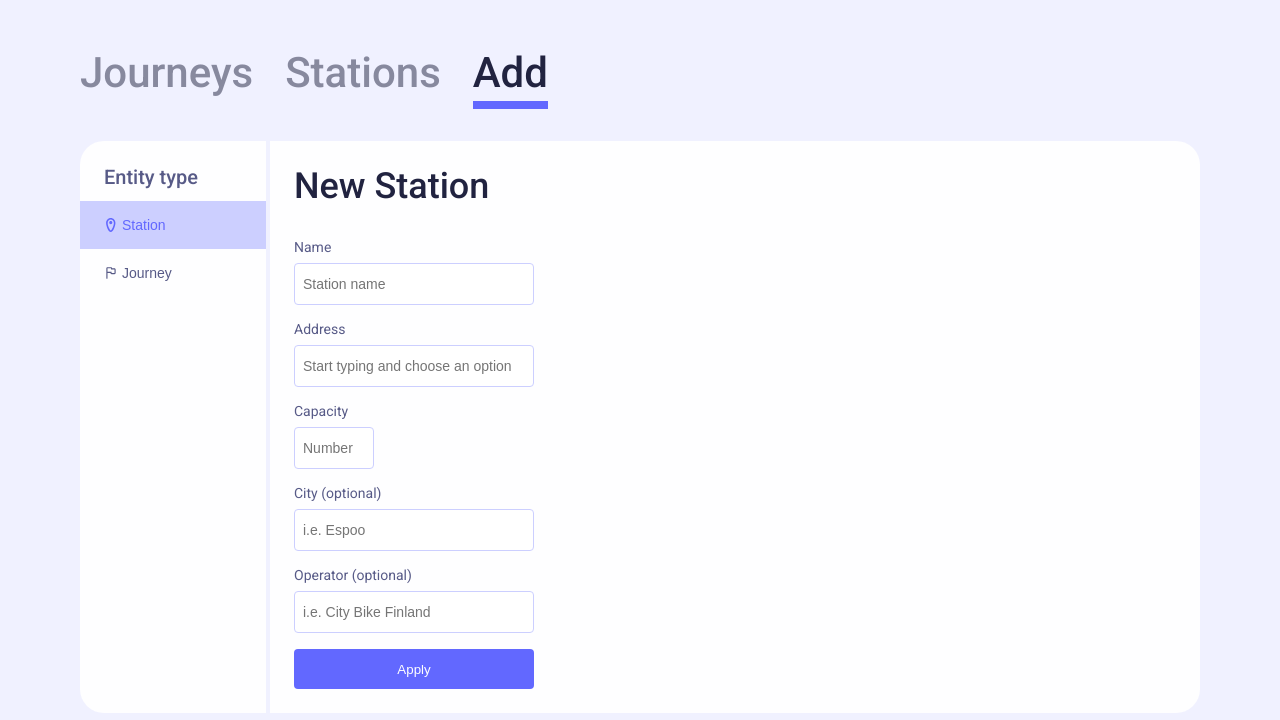
New Station Form › shows statusbar error if failed to obtain coordinates
Type "test" into the field with test id "input-address".
click(414, 366); type("test")  # box [294,345,534,387]
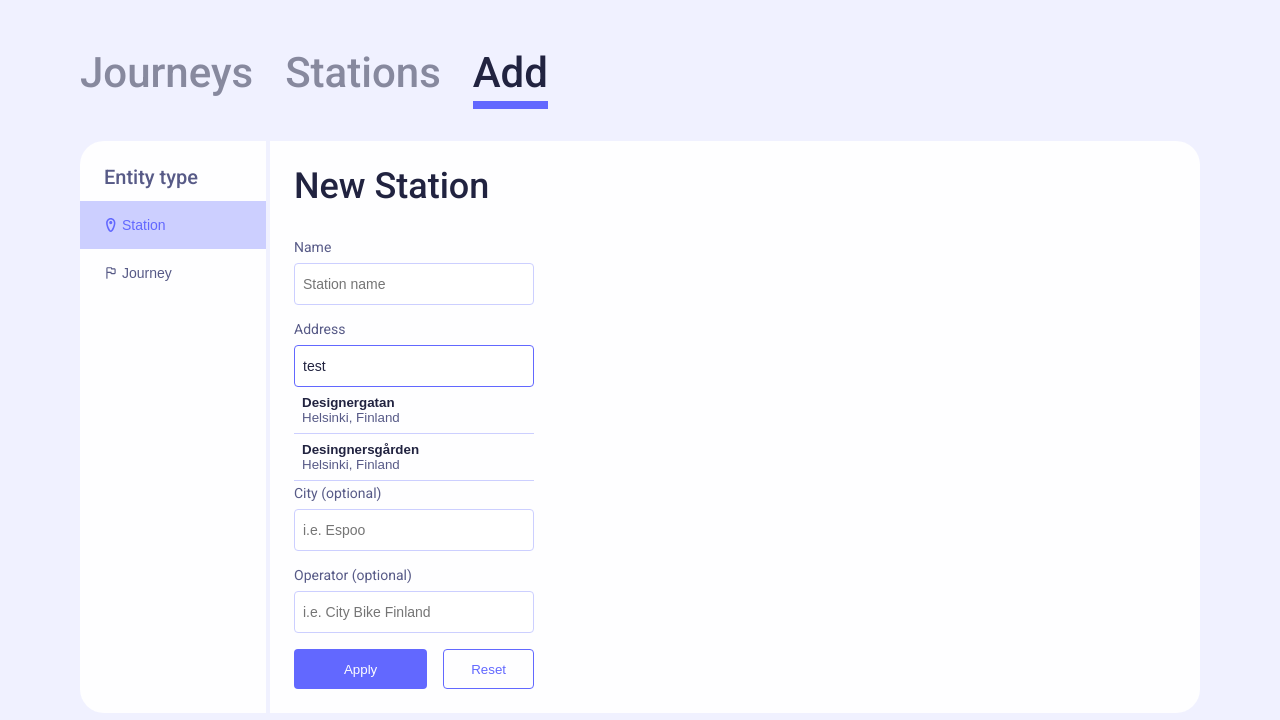
Click the button with test id "suggestion--designergatan".
click(414, 411)  # box [294,387,534,434]
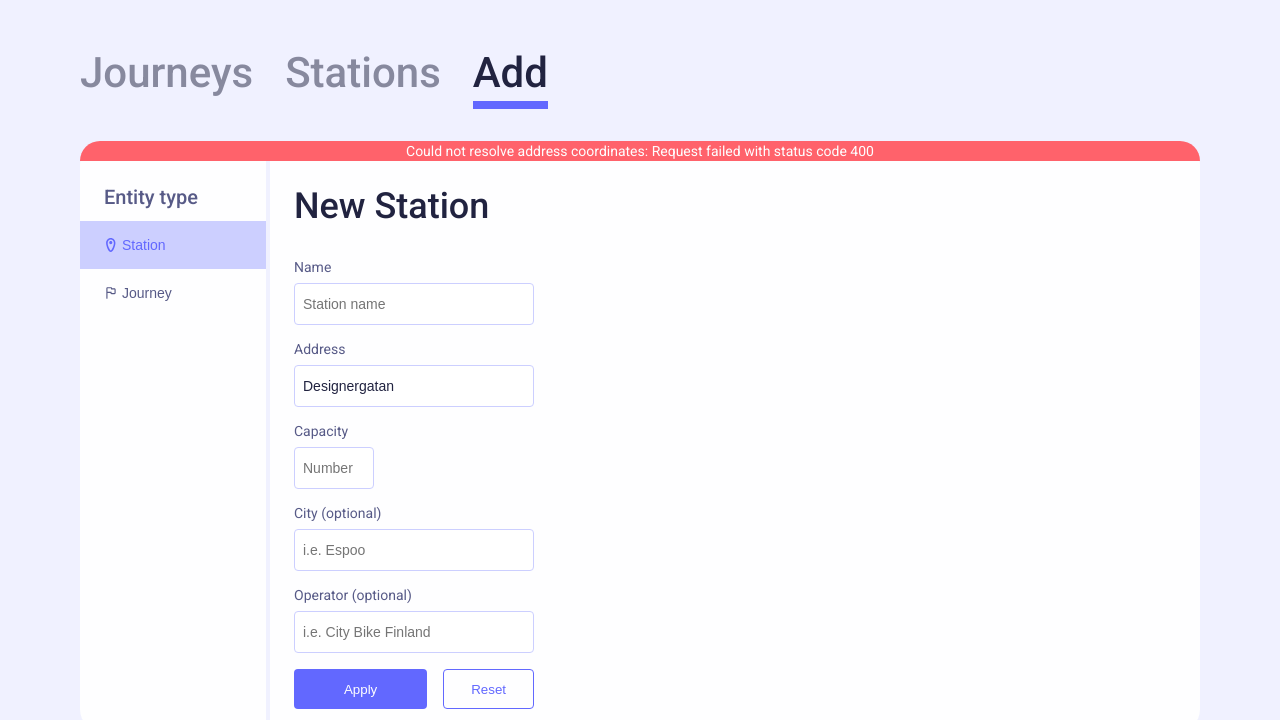
Result: the element with test id "statusbar-ERROR" is shown at [80,141,1200,161]
Result: the text with class "message" is shown at [406,143,874,159]
